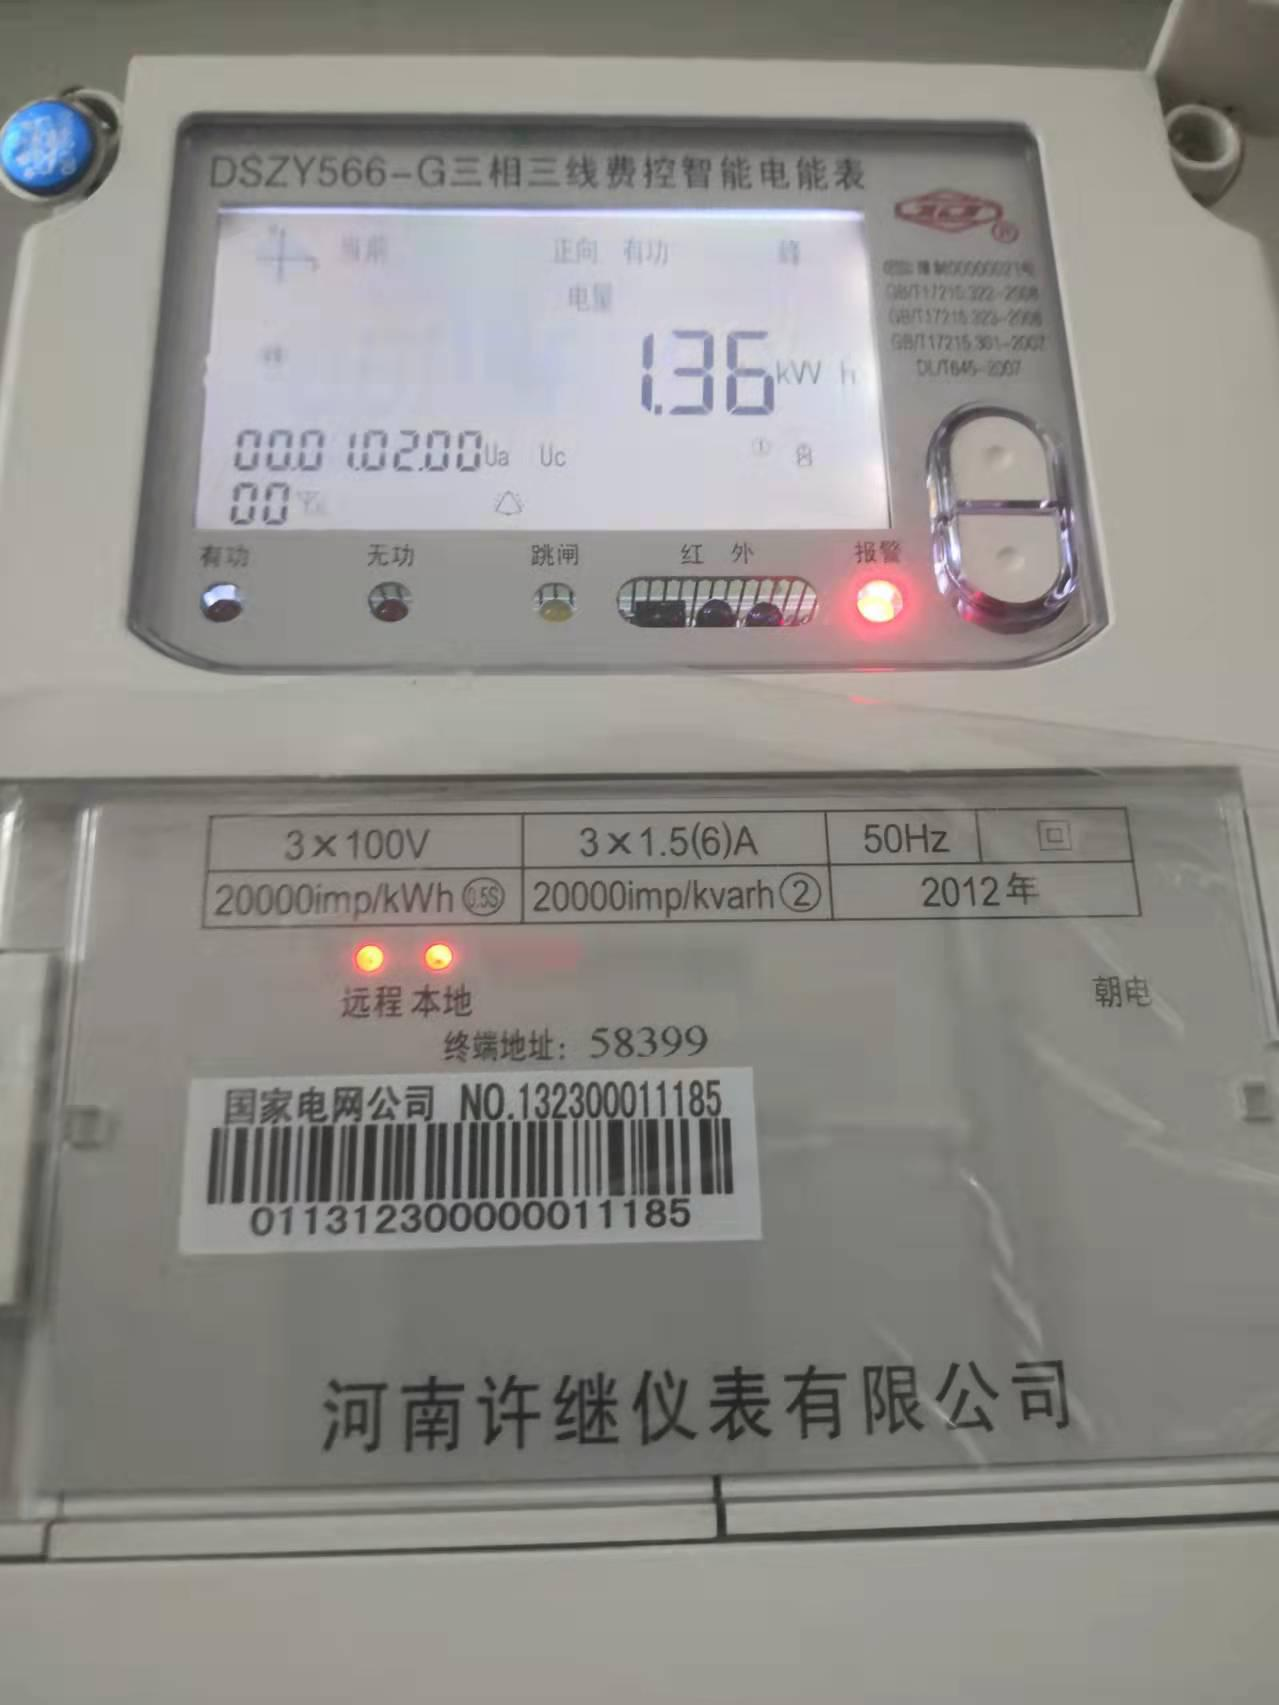digital: (3, 52, 1279, 1556)
